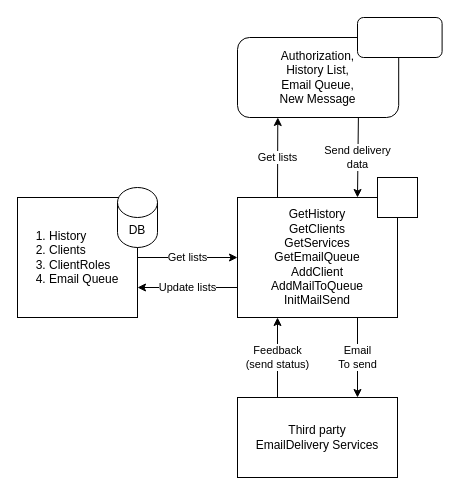
This 460x495 diagram has some shape labels left out. Here are the shapes that lost their labels. From the top down, the centre of each, then its label:
(399,37): Interface
(397,197): API
